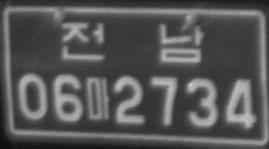0: (17, 71, 49, 121)
2: (112, 74, 147, 125)
3: (186, 76, 220, 128)
4: (225, 77, 258, 129)
6: (52, 71, 84, 122)
7: (150, 75, 180, 126)
마: (85, 75, 111, 121)
전남_D: (62, 21, 205, 63)
